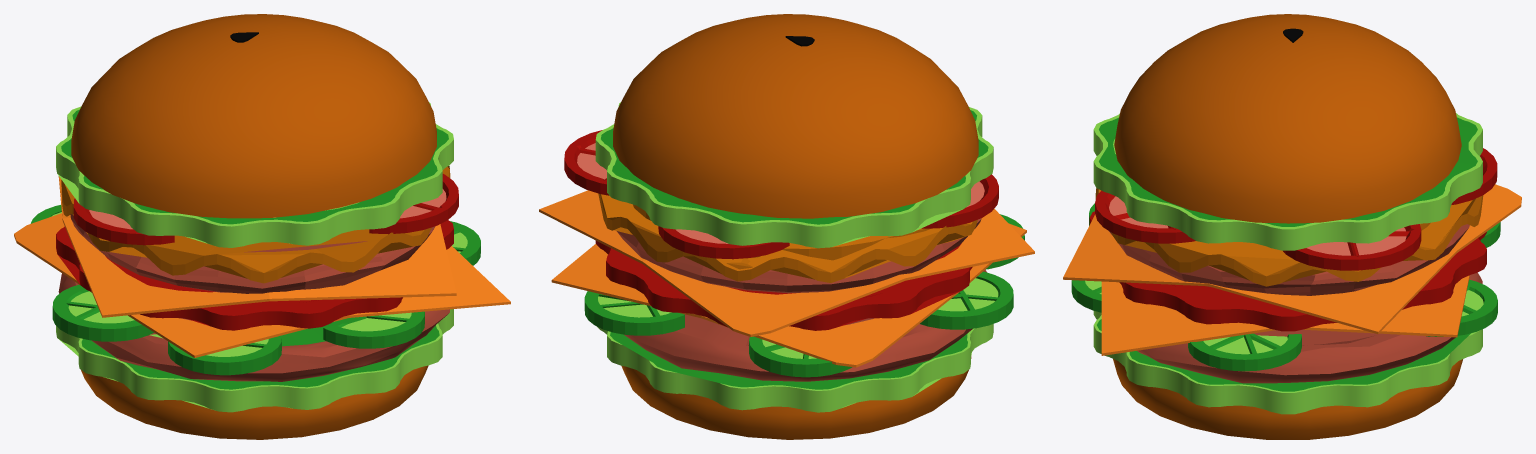
The model's file is Borgir.fbx.
3 renders of one model, left to right at view 1: azimuth 30°, elevation 25°; view 2: azimuth 150°, elevation 25°; view 3: azimuth 270°, elevation 25°, orthographic.
Parts seen in each view (by area): view 1: Upper Bun, Cabbage, Cabbage 2, Cheese 1, Lower bun, Mustard, Cheese 2, Meat 2, Ketchup, Meat 1, Cucumber 1, Cucumber 3 (+4 smaller); view 2: Upper Bun, Cabbage, Cheese 1, Cabbage 2, Mustard, Lower bun, Meat 2, Cheese 2, Ketchup, Meat 1, Cucumber 1, Cucumber 5 (+4 smaller); view 3: Upper Bun, Cabbage, Cabbage 2, Cheese 1, Lower bun, Cheese 2, Meat 2, Mustard, Ketchup, Meat 1, Tomato 3, Cucumber 4 (+4 smaller).
Part boxes in pixels (x1,y1,x2,y2): Upper Bun: (71, 14, 436, 218); Cabbage: (56, 102, 453, 247); Cabbage 2: (56, 309, 453, 412); Cheese 1: (58, 176, 456, 317); Lower bun: (81, 365, 428, 439); Mustard: (61, 166, 450, 283); Cheese 2: (14, 213, 510, 357); Meat 2: (58, 273, 449, 381); Ketchup: (56, 220, 453, 330); Meat 1: (70, 214, 435, 293); Cucumber 1: (52, 284, 153, 341); Cucumber 3: (323, 311, 424, 348); Upper Bun: (613, 14, 978, 218); Cabbage: (595, 102, 993, 248); Cheese 1: (539, 190, 1034, 336); Cabbage 2: (597, 324, 993, 412); Mustard: (598, 193, 977, 282); Lower bun: (621, 356, 971, 439); Meat 2: (624, 269, 986, 381); Cheese 2: (551, 223, 1026, 367); Ketchup: (595, 241, 972, 330); Meat 1: (616, 218, 981, 293); Cucumber 1: (920, 271, 1013, 329); Cucumber 5: (584, 291, 684, 335); Upper Bun: (1114, 14, 1461, 223); Cabbage: (1093, 113, 1482, 250); Cabbage 2: (1093, 311, 1482, 414); Cheese 1: (1063, 184, 1521, 334); Lower bun: (1113, 359, 1462, 439); Cheese 2: (1101, 275, 1469, 355); Meat 2: (1137, 272, 1482, 383); Mustard: (1095, 188, 1483, 286); Ketchup: (1089, 211, 1486, 331); Meat 1: (1109, 224, 1469, 295); Tomato 3: (1283, 224, 1421, 270); Cucumber 4: (1188, 333, 1301, 371).
Bounding box in the file's own units: 1471 × 1127 × 1419.
